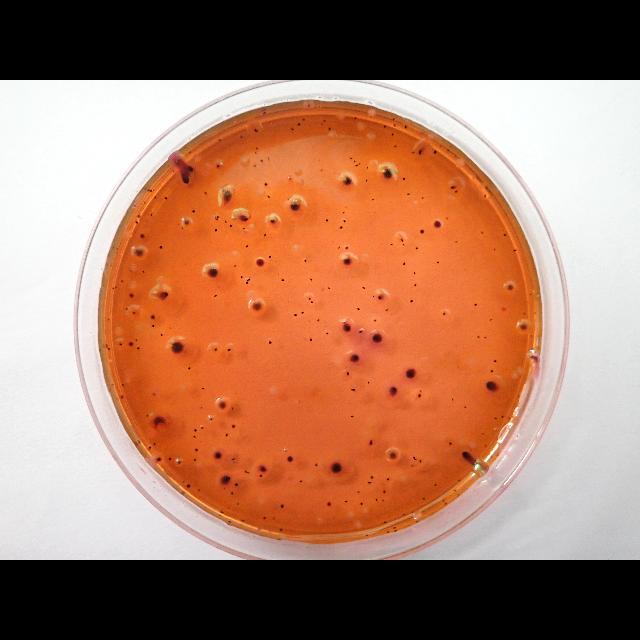colony: (382, 165, 394, 181), (171, 342, 185, 354), (152, 417, 166, 428), (180, 173, 192, 185), (331, 461, 343, 473), (224, 190, 232, 206), (208, 266, 218, 278), (291, 200, 301, 212), (486, 381, 498, 391), (462, 450, 472, 462), (157, 290, 169, 300), (238, 215, 254, 222), (372, 333, 383, 343), (388, 386, 398, 396), (252, 300, 262, 310), (406, 368, 416, 378), (221, 476, 233, 484), (342, 177, 352, 186), (343, 256, 352, 266), (187, 164, 196, 173), (256, 258, 264, 268), (218, 401, 228, 409), (134, 248, 144, 256), (349, 354, 358, 362), (343, 323, 351, 332), (433, 220, 441, 228), (214, 451, 222, 459), (388, 452, 398, 458), (183, 218, 190, 226), (520, 324, 528, 331), (244, 277, 250, 285), (259, 466, 267, 472), (528, 354, 536, 360), (286, 456, 294, 462), (214, 214, 220, 220), (270, 217, 276, 223), (507, 284, 513, 290), (368, 439, 374, 445), (404, 124, 408, 130), (326, 502, 332, 506), (156, 457, 162, 461), (128, 342, 134, 346), (130, 292, 134, 298), (418, 149, 422, 155), (350, 388, 356, 392), (394, 170, 398, 174), (402, 177, 406, 181), (354, 116, 358, 120), (302, 118, 306, 122), (254, 129, 258, 133), (218, 138, 222, 142), (260, 159, 264, 163), (264, 182, 268, 186), (221, 188, 225, 192), (188, 150, 192, 154), (192, 209, 196, 213), (140, 234, 144, 238), (159, 245, 163, 249), (268, 255, 272, 259), (420, 230, 424, 234), (382, 490, 386, 494), (280, 504, 284, 508), (187, 484, 191, 488), (148, 446, 152, 450), (137, 440, 141, 444), (136, 346, 140, 350), (151, 315, 155, 319), (454, 190, 458, 194), (410, 464, 414, 468), (378, 296, 382, 300), (362, 286, 366, 290), (268, 340, 272, 344), (152, 392, 156, 396), (418, 393, 422, 397), (442, 312, 446, 316), (255, 150, 257, 156), (217, 164, 220, 168), (164, 197, 168, 200), (135, 220, 139, 223), (215, 228, 218, 232), (215, 294, 218, 298), (235, 482, 238, 486), (195, 428, 198, 432), (232, 424, 235, 428), (263, 112, 267, 115), (450, 186, 456, 188), (346, 372, 349, 376), (220, 511, 223, 514), (200, 426, 203, 429), (350, 156, 352, 160), (367, 166, 369, 170), (366, 178, 368, 182), (394, 145, 398, 147), (392, 132, 394, 136), (384, 124, 386, 128), (394, 123, 396, 127), (328, 127, 330, 131), (298, 122, 300, 126), (290, 128, 294, 130), (308, 104, 310, 108), (256, 146, 258, 150), (267, 156, 269, 160), (268, 195, 270, 199), (204, 192, 208, 194), (138, 214, 140, 218), (225, 220, 227, 224), (230, 224, 232, 228), (246, 245, 248, 249), (234, 264, 236, 268), (241, 275, 243, 279), (282, 278, 284, 282), (341, 212, 345, 214), (326, 218, 328, 222), (342, 220, 346, 222), (401, 238, 403, 242), (446, 217, 448, 221), (454, 241, 458, 243), (403, 262, 405, 266), (501, 414, 503, 418), (448, 443, 452, 445), (454, 488, 456, 492), (422, 498, 426, 500), (415, 521, 419, 523), (392, 526, 396, 528), (394, 530, 398, 532), (360, 502, 362, 506), (375, 498, 377, 502), (344, 500, 348, 502), (280, 528, 282, 532), (263, 516, 265, 520), (228, 521, 232, 523), (218, 514, 222, 516), (237, 502, 239, 506), (260, 474, 262, 478), (196, 448, 198, 452), (194, 458, 196, 462), (169, 457, 171, 461), (154, 442, 156, 446), (226, 433, 228, 437), (120, 396, 124, 398), (106, 344, 108, 348), (136, 338, 138, 342), (152, 324, 154, 328), (120, 280, 124, 282), (143, 270, 145, 274), (411, 151, 415, 153), (434, 150, 436, 154), (447, 149, 449, 153), (484, 194, 486, 198), (514, 248, 516, 252), (524, 312, 526, 316), (412, 456, 416, 458), (310, 338, 312, 342), (317, 318, 319, 322), (310, 278, 312, 282), (310, 301, 314, 303), (294, 314, 298, 316), (227, 348, 231, 350), (304, 259, 306, 263), (367, 482, 371, 484), (299, 480, 303, 482), (315, 462, 317, 466), (321, 123, 324, 125), (254, 165, 256, 168), (134, 205, 136, 208), (181, 227, 183, 230), (242, 228, 245, 230), (346, 247, 348, 250), (338, 247, 340, 250), (391, 244, 394, 246), (416, 247, 418, 250), (436, 261, 439, 263), (386, 531, 389, 533), (230, 492, 233, 494), (178, 461, 180, 464), (122, 384, 125, 386), (125, 308, 128, 310), (113, 247, 115, 250), (351, 416, 354, 418), (368, 381, 370, 384), (411, 300, 414, 302), (406, 193, 409, 195), (215, 348, 218, 350), (188, 366, 190, 369), (356, 164, 358, 166), (358, 163, 360, 165), (354, 160, 356, 162), (393, 118, 395, 120), (324, 120, 326, 122), (240, 136, 242, 138), (172, 170, 174, 172), (153, 189, 155, 191), (150, 190, 152, 192), (154, 196, 156, 198), (144, 202, 146, 204), (150, 214, 152, 216), (264, 234, 266, 236), (287, 198, 289, 200), (340, 226, 342, 228), (402, 244, 404, 246), (413, 272, 415, 274), (414, 284, 416, 286), (474, 304, 476, 306), (489, 319, 491, 321), (484, 336, 486, 338), (477, 336, 479, 338), (494, 360, 496, 362), (491, 370, 493, 372), (494, 417, 496, 419), (464, 406, 466, 408), (452, 398, 454, 400), (482, 433, 484, 435), (458, 479, 460, 481), (443, 499, 445, 501), (445, 503, 447, 505), (434, 484, 436, 486), (412, 511, 414, 513), (384, 521, 386, 523), (382, 499, 384, 501), (366, 534, 368, 536), (242, 520, 244, 522), (245, 470, 247, 472), (247, 472, 249, 474), (232, 458, 234, 460), (198, 489, 200, 491), (183, 481, 185, 483), (146, 415, 148, 417), (200, 407, 202, 409), (210, 418, 212, 420), (194, 436, 196, 438), (232, 408, 234, 410), (202, 388, 204, 390), (108, 348, 110, 350), (120, 343, 122, 345), (161, 334, 163, 336), (133, 312, 135, 314), (115, 286, 117, 288), (112, 287, 114, 289), (116, 248, 118, 250), (178, 223, 180, 225), (370, 116, 372, 118), (481, 232, 483, 234), (504, 234, 506, 236), (494, 248, 496, 250), (414, 458, 416, 460), (419, 460, 421, 462), (326, 332, 328, 334), (360, 331, 362, 333), (374, 319, 376, 321), (358, 308, 360, 310), (386, 309, 388, 311), (372, 294, 373, 298), (372, 199, 374, 201), (422, 197, 424, 199), (328, 287, 330, 289), (309, 298, 311, 300), (302, 311, 304, 313), (112, 384, 114, 386), (420, 390, 422, 392), (371, 476, 373, 478), (387, 478, 389, 480), (108, 318, 109, 320), (404, 513, 404, 515), (358, 492, 360, 492), (530, 294, 532, 294), (321, 170, 324, 170)
